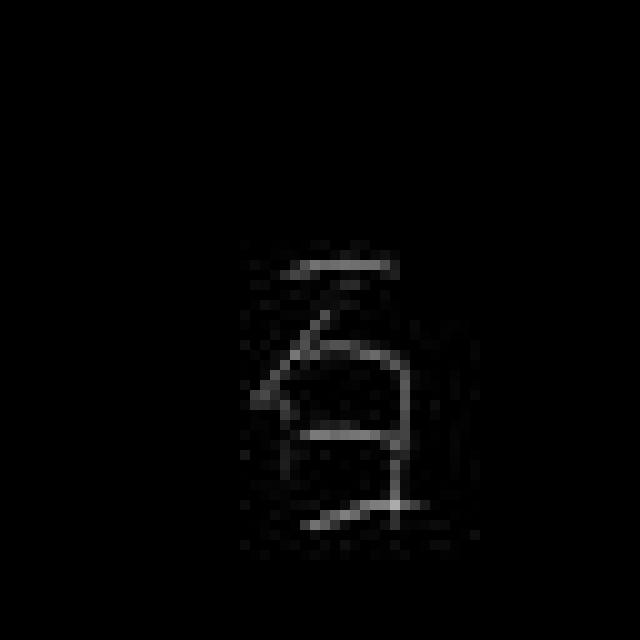100 -a hundred-: (237, 245, 419, 541)
